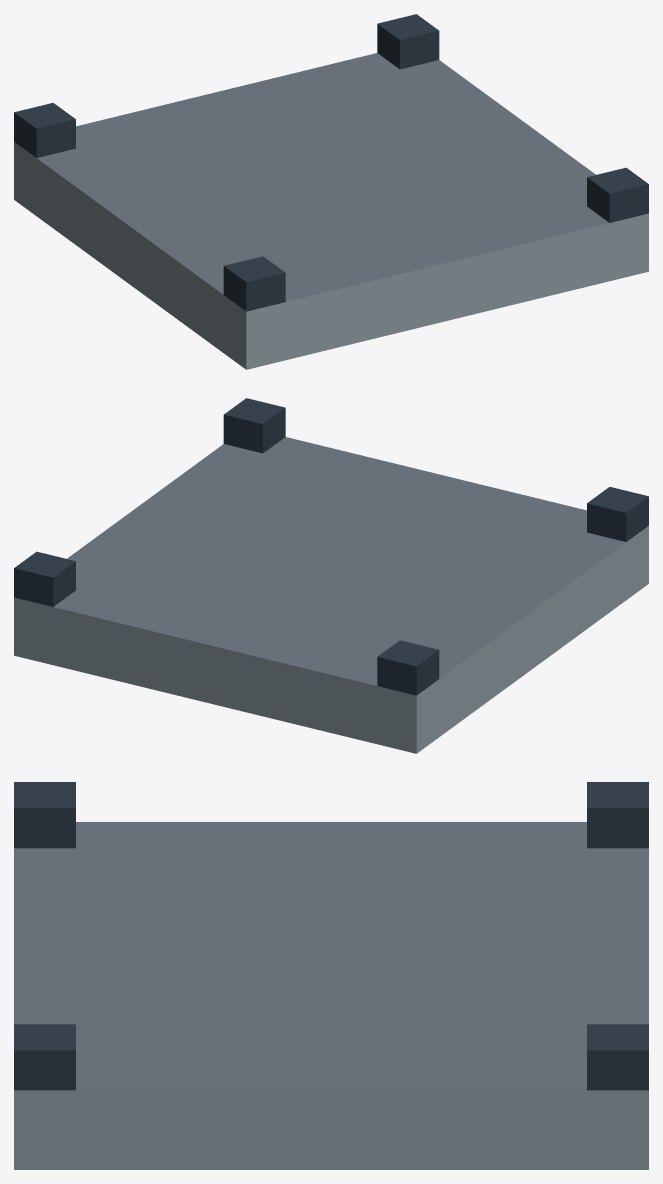
The model's file is SM_Belt_X.fbx.
3 views of the same model, one above another, from view 1: azimuth 30°, elevation 25°; view 2: azimuth 150°, elevation 25°; view 3: azimuth 270°, elevation 25° (orthographic). The views are drawn at different scales.
Parts seen in each view (by area): view 1: Belt_X; view 2: Belt_X; view 3: Belt_X.
Boxes of the visible parts, <box> form: Belt_X: <box>14,14,648,369</box>; Belt_X: <box>14,398,648,753</box>; Belt_X: <box>14,782,648,1169</box>.
Size of the model in its own units: 100 by 20.77 by 100.
1 material, 1 textured.
